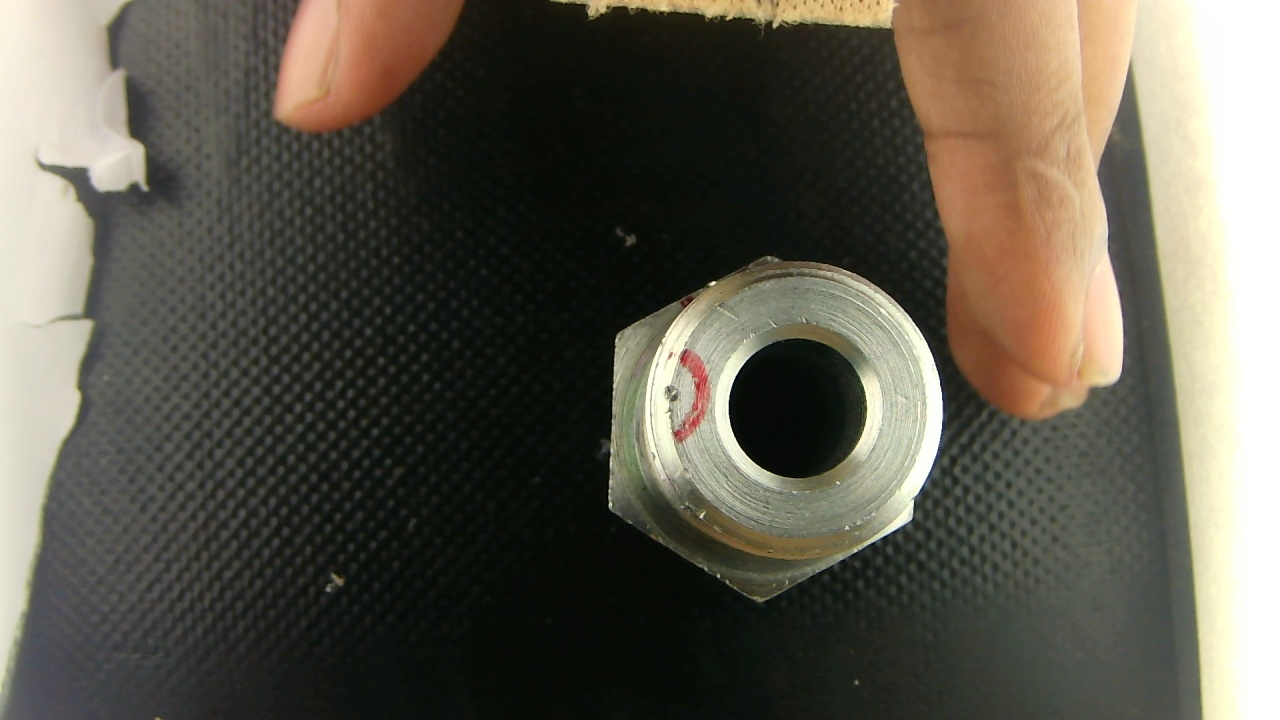SurfaceDent_Adaptor: (606, 330, 634, 525)
